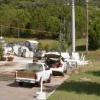Car: (12, 53, 67, 91)
